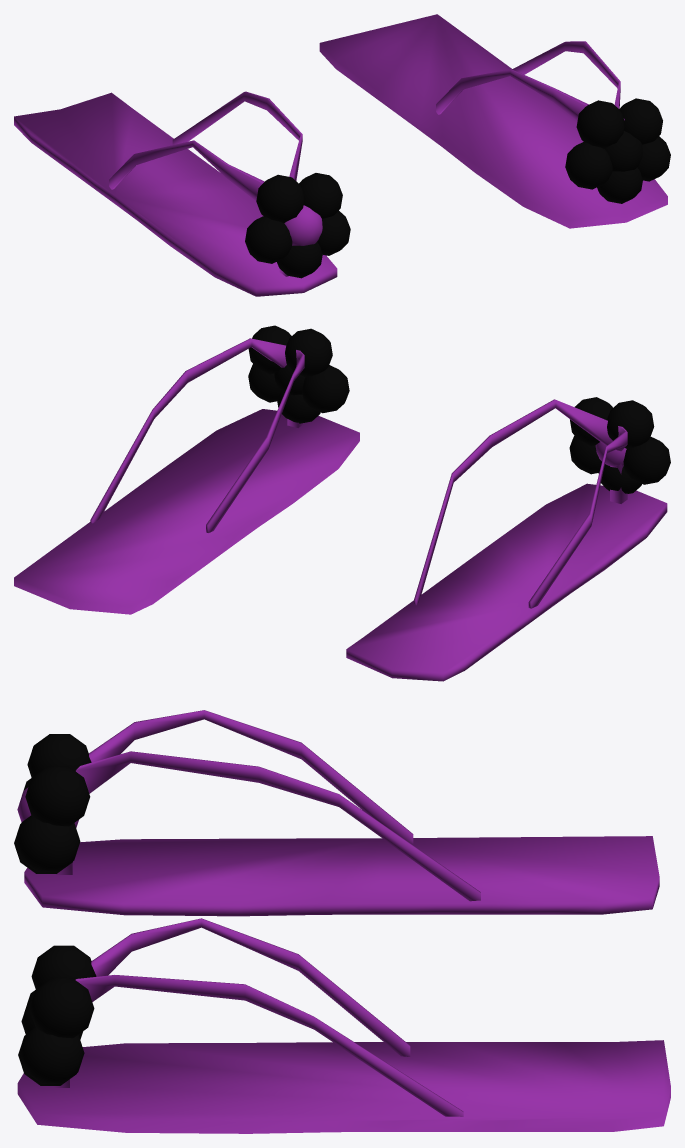
The model's file is parmak arası terlik.fbx.
3 views of the same model, one above another, from view 1: azimuth 30°, elevation 25°; view 2: azimuth 150°, elevation 25°; view 3: azimuth 270°, elevation 25° (orthographic). The views are drawn at different scales.
Parts seen in each view (by area): view 1: İkosfer.005, Cube.001; view 2: İkosfer.005, Cube.001; view 3: İkosfer.005, Cube.001.
Boxes of the visible parts, box(x1,y1,x2,y2) form: İkosfer.005: box(319, 14, 670, 228); Cube.001: box(14, 91, 350, 296); İkosfer.005: box(14, 325, 359, 614); Cube.001: box(346, 397, 670, 681); İkosfer.005: box(17, 918, 670, 1133); Cube.001: box(14, 710, 659, 916).
Bounding box in the file's own units: 70.34 × 19.28 × 68.78.
